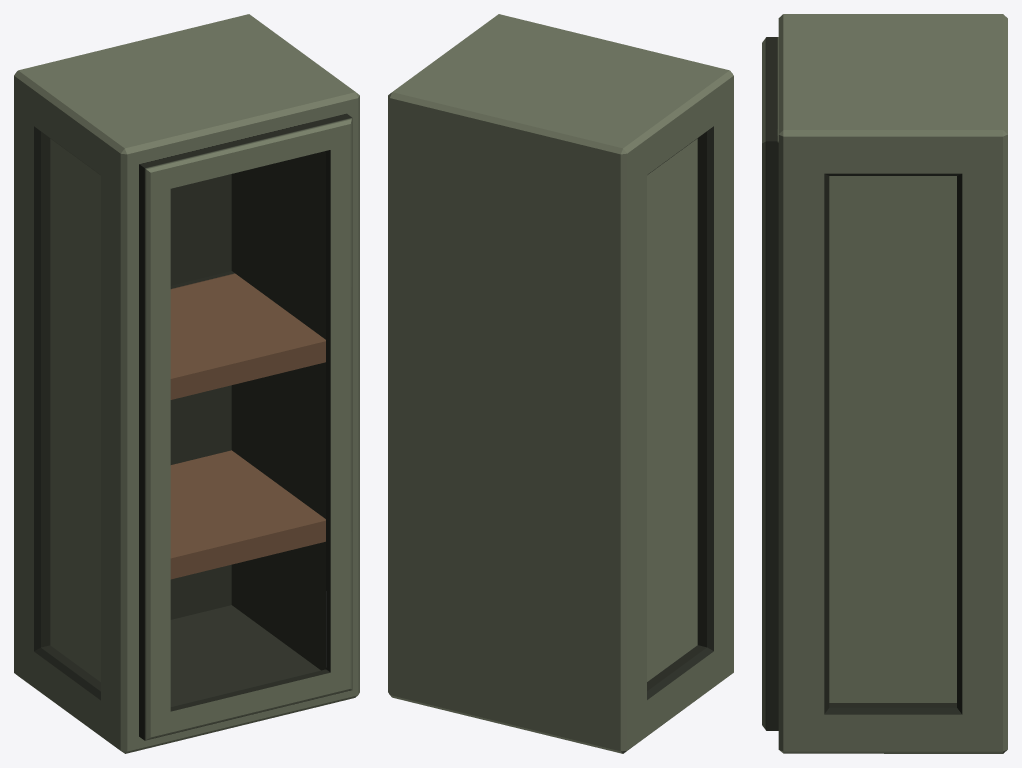
File: SingleHangingCabinetLeft.glb
3 renders of one model, left to right at view 1: azimuth 30°, elevation 25°; view 2: azimuth 150°, elevation 25°; view 3: azimuth 270°, elevation 25°, orthographic. The views are drawn at different scales.
Visible parts, largest first — view 1: Single Hanging Cabinet L; view 2: Single Hanging Cabinet L; view 3: Single Hanging Cabinet L.
Part boxes in pixels (x1,y1,x2,y2): Single Hanging Cabinet L: (14, 14, 359, 753); Single Hanging Cabinet L: (388, 14, 733, 753); Single Hanging Cabinet L: (762, 14, 1007, 753).
Bounding box in the file's own units: 0.62 × 1.5 × 0.5358.
1 material, 1 textured.
